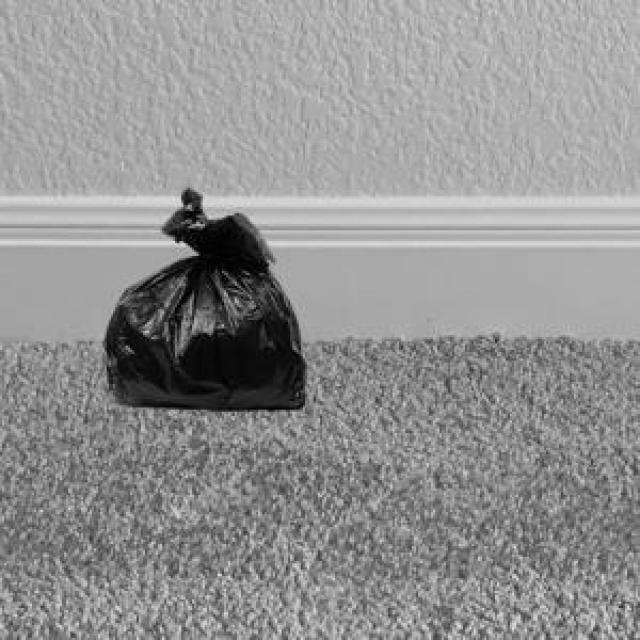miscellaneous trash: (100, 184, 303, 408)
